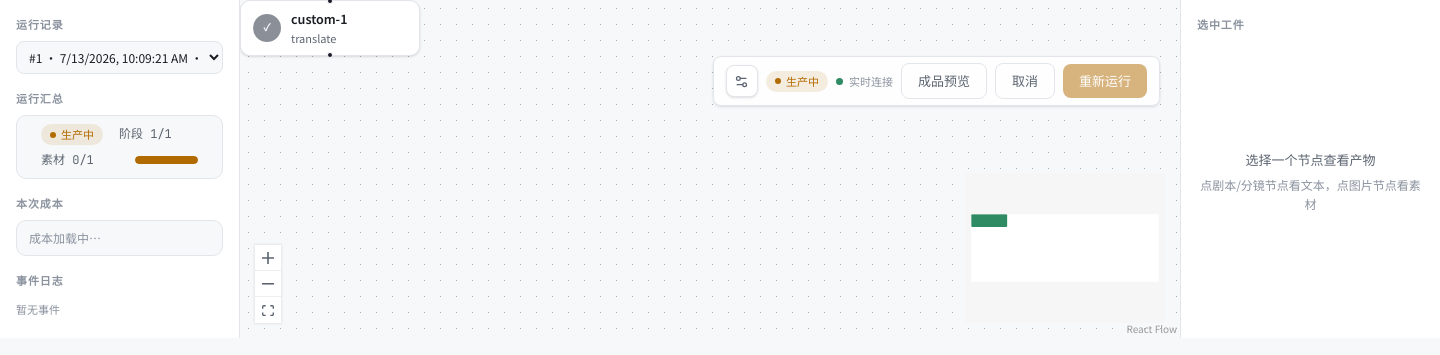
RunCanvas per-item inspector (P5d) › FALLBACK: empty items[] → scalar panel still renders (no item inspector)
Click the element with class "react-flow__node". click: (330, 32)
box: x1=240 y1=0 x2=420 y2=64
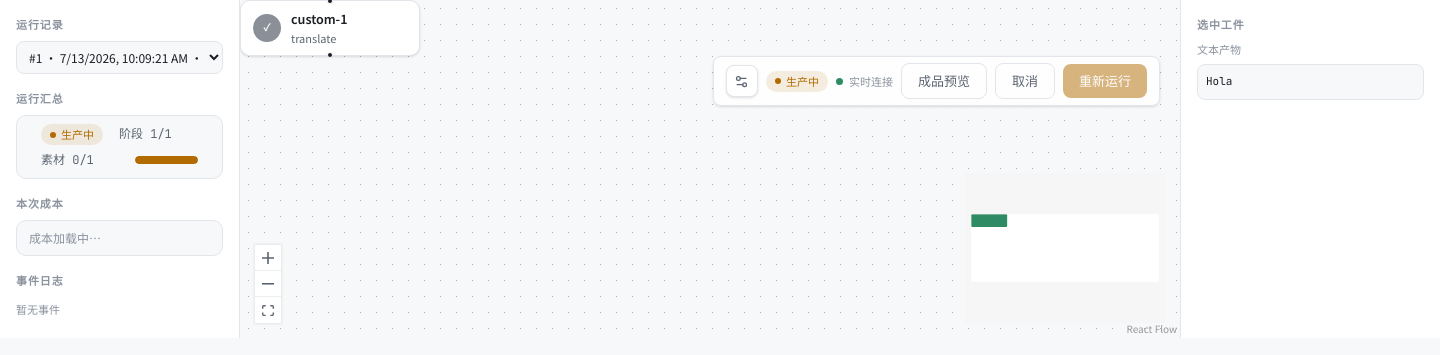
Check: the text "Hola" is shown, box x1=1197 y1=64 x2=1424 y2=100
